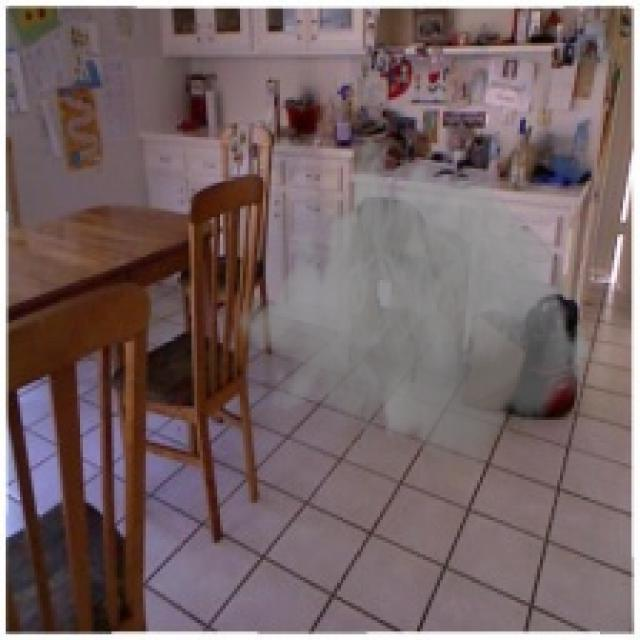Smoke: (235, 126, 594, 500)
